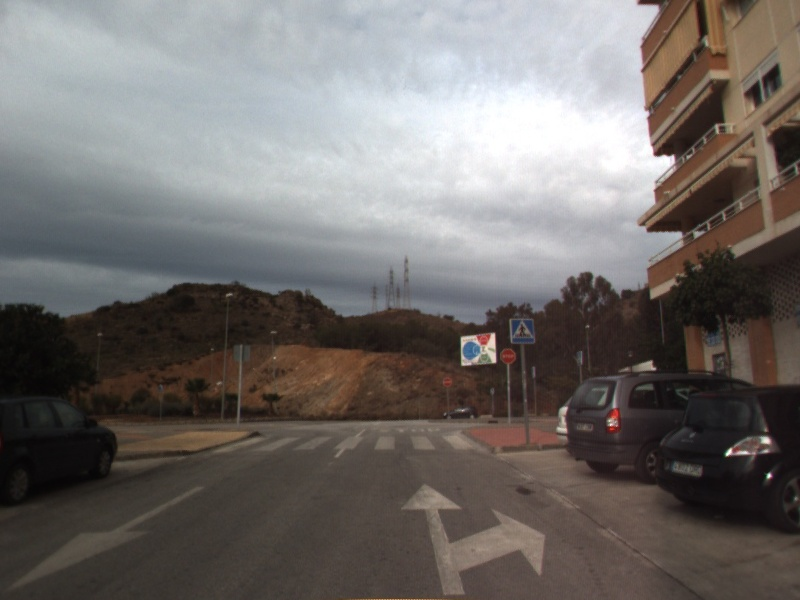STRAIGHT_RIGHT: (398, 481, 548, 597)
